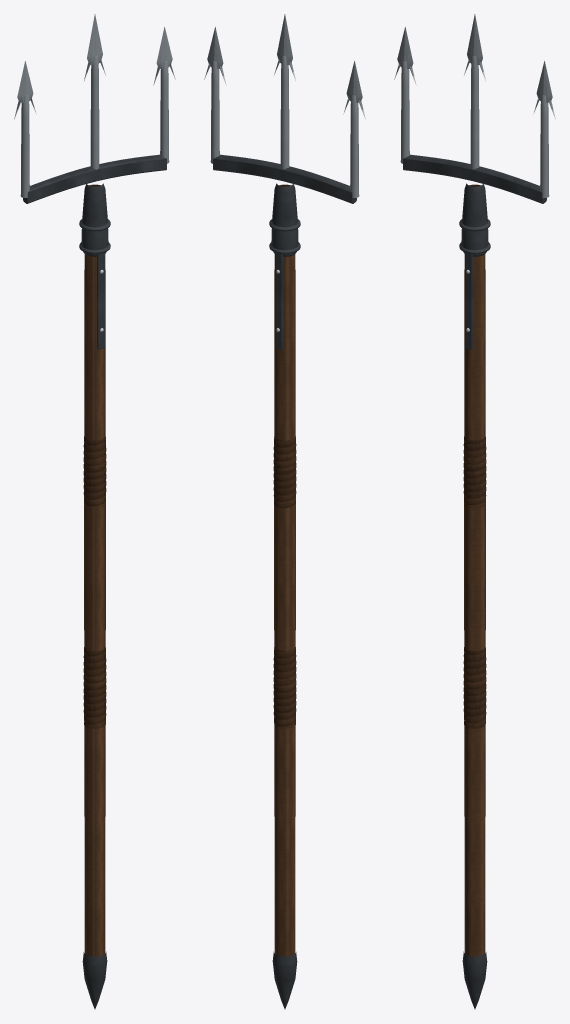
The model's file is trident.glb.
3 renders of one model, left to right at view 1: azimuth 30°, elevation 25°; view 2: azimuth 150°, elevation 25°; view 3: azimuth 330°, elevation 25°, orthographic.
Visible parts, largest first — view 1: wood / oiled hardwood, darksteel / oil-blackened fittings, steel / forged blade steel, leather / oiled leather wrap; view 2: wood / oiled hardwood, darksteel / oil-blackened fittings, steel / forged blade steel, leather / oiled leather wrap; view 3: wood / oiled hardwood, darksteel / oil-blackened fittings, steel / forged blade steel, leather / oiled leather wrap.
Part boxes in pixels (x1=…): wood / oiled hardwood: x1=84, y1=184, x2=105, y2=956; darksteel / oil-blackened fittings: x1=23, y1=154, x2=166, y2=1009; steel / forged blade steel: x1=16, y1=14, x2=173, y2=197; leather / oiled leather wrap: x1=83, y1=436, x2=106, y2=728; wood / oiled hardwood: x1=274, y1=184, x2=295, y2=956; darksteel / oil-blackened fittings: x1=213, y1=154, x2=356, y2=1009; steel / forged blade steel: x1=206, y1=14, x2=363, y2=197; leather / oiled leather wrap: x1=273, y1=436, x2=296, y2=728; wood / oiled hardwood: x1=464, y1=184, x2=485, y2=956; darksteel / oil-blackened fittings: x1=403, y1=154, x2=546, y2=1009; steel / forged blade steel: x1=396, y1=14, x2=553, y2=197; leather / oiled leather wrap: x1=463, y1=436, x2=486, y2=728.
Bounding box in the file's own units: 0.348 × 2.05 × 0.0582.
Materials: 5 (5 with a texture image).
